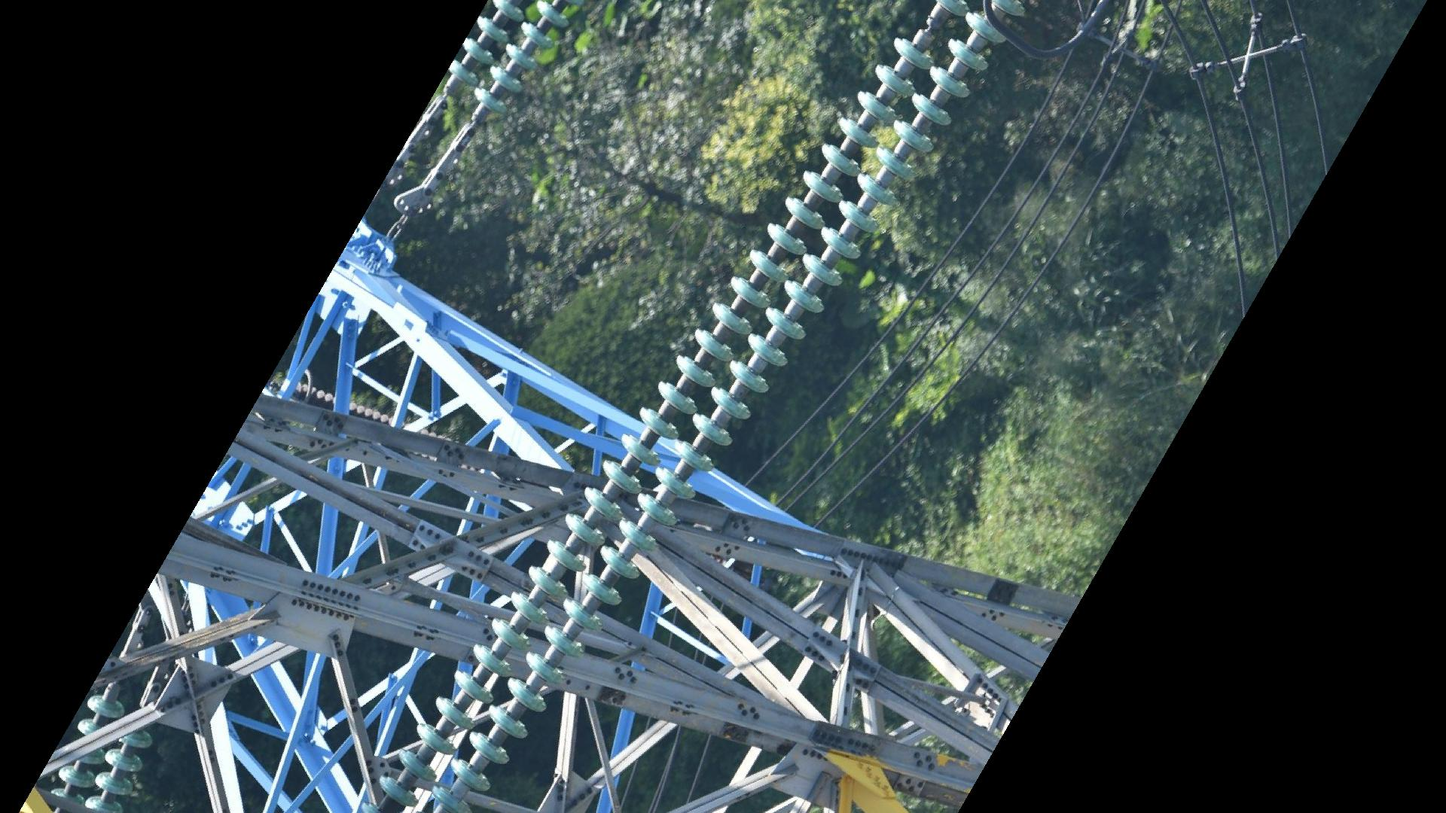insulator: (368, 1, 1028, 813), (430, 1, 572, 141), (39, 684, 157, 813)
insulator_stringdrop: (889, 1, 975, 78)
